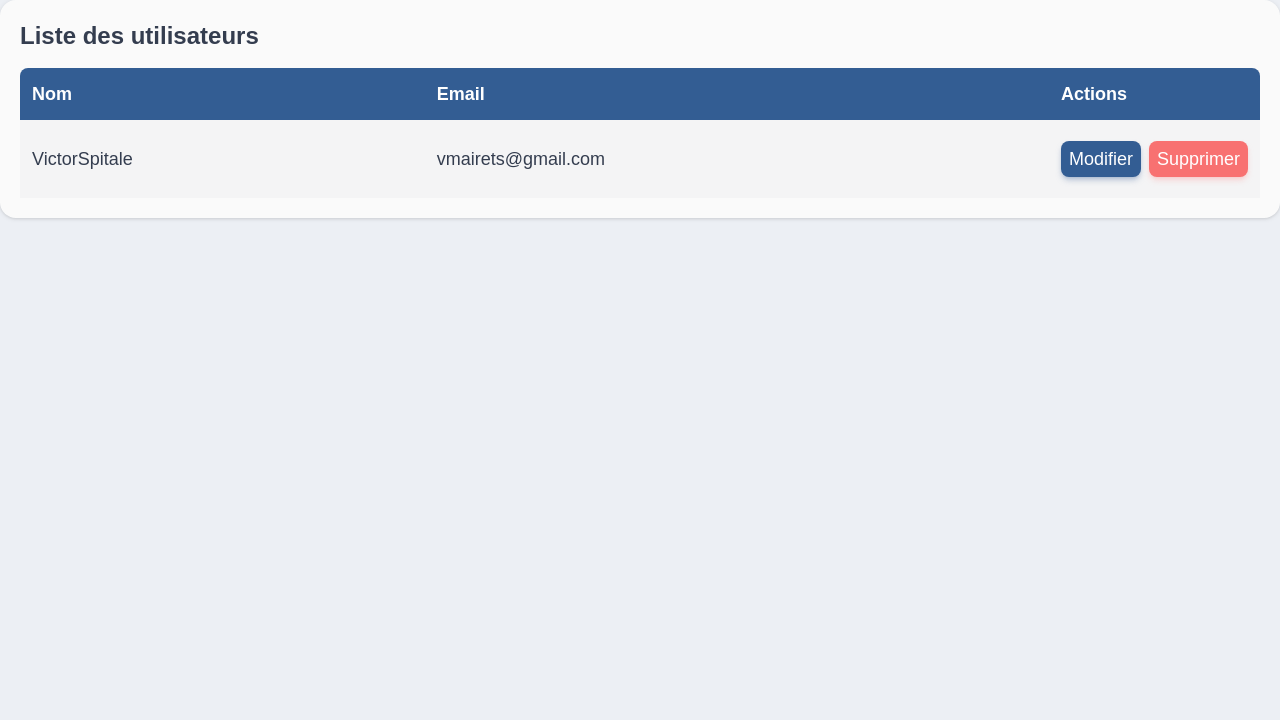
Test: UsersViewTest › should render the users view and open update
expect the text "VictorSpitale" is shown: met, box x1=20 y1=120 x2=425 y2=198
Click the button "Modifier" at (1101,159), box x1=1061 y1=141 x2=1141 y2=177
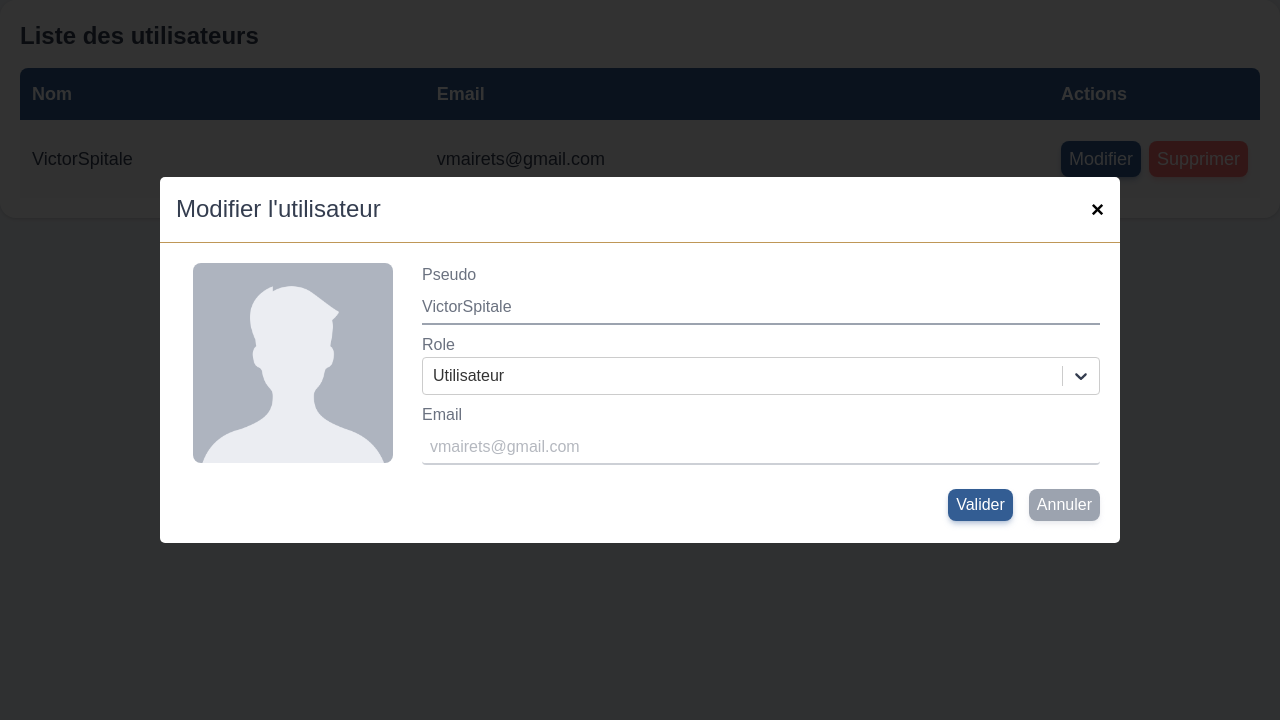
expect the heading "Modifier l'utilisateur" is shown: met, box x1=176 y1=194 x2=381 y2=226
